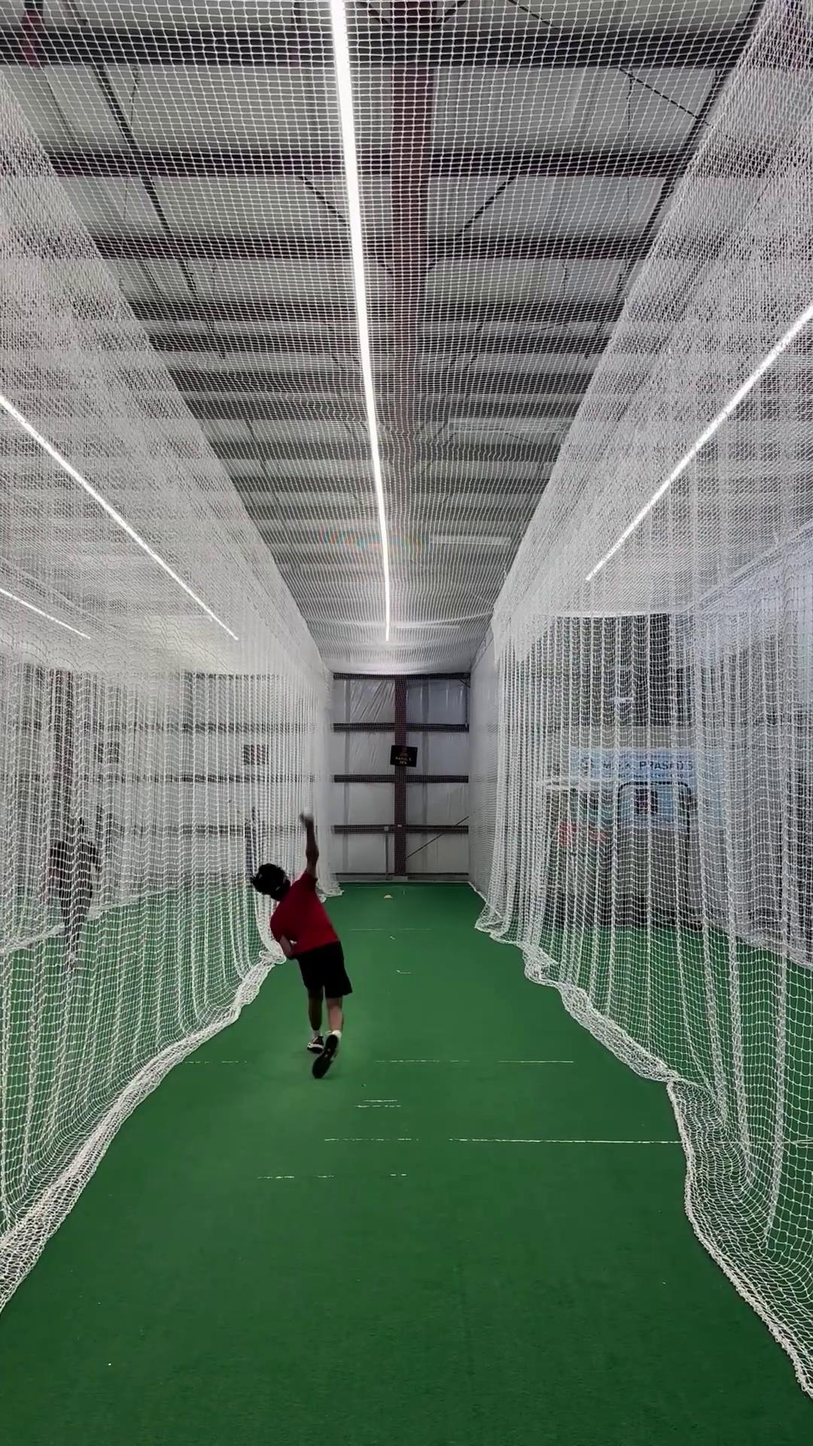ball: (290, 802, 322, 830)
